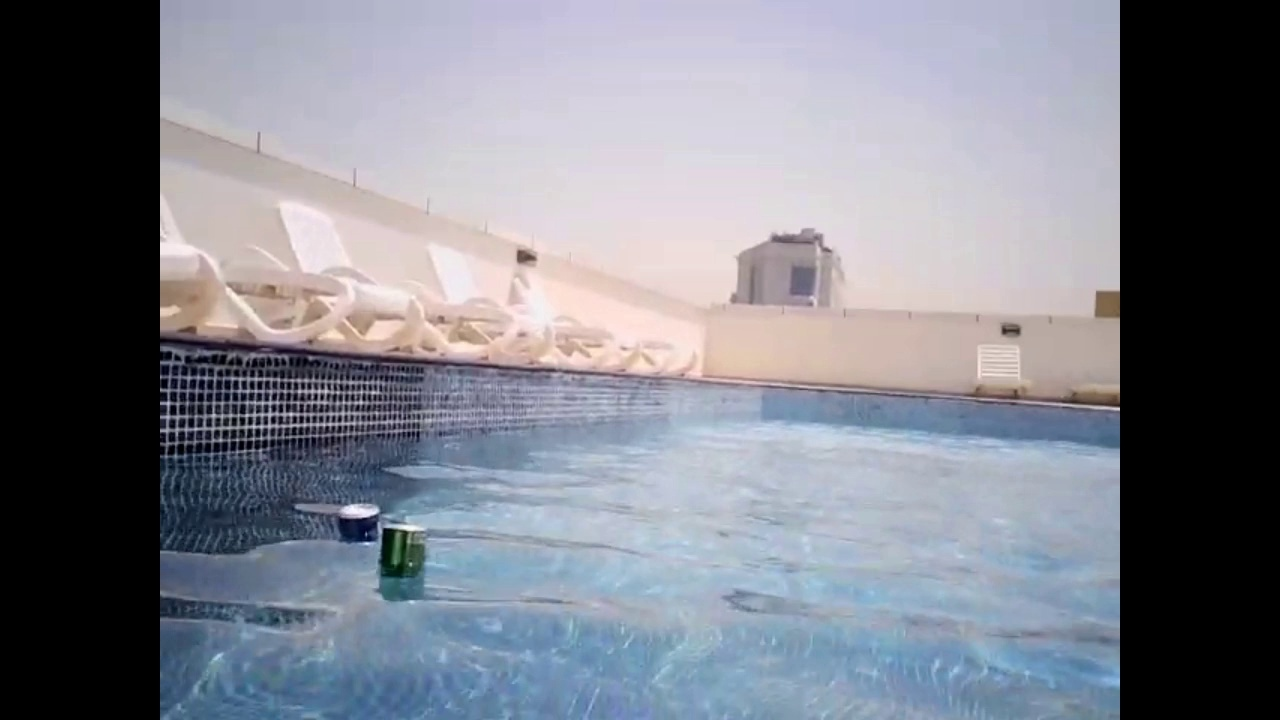debris: (373, 518, 434, 596), (333, 495, 382, 559)
